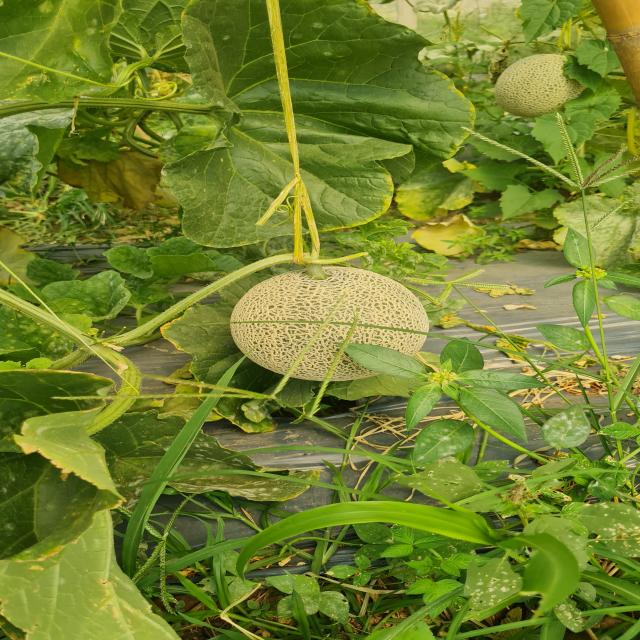melon: (231, 266, 429, 381)
